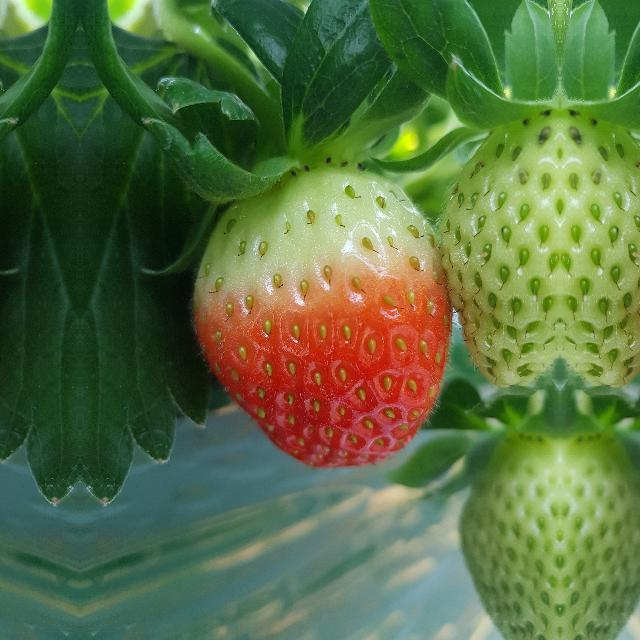Health_25: (441, 99, 559, 399), (561, 99, 640, 399), (454, 423, 560, 639), (560, 423, 640, 639)
Health_75: (189, 165, 455, 471)
